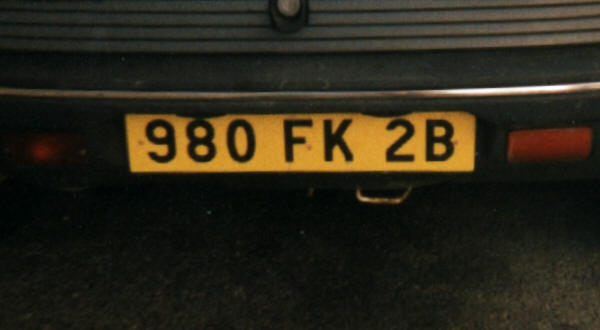license_plate: (124, 110, 478, 175)
